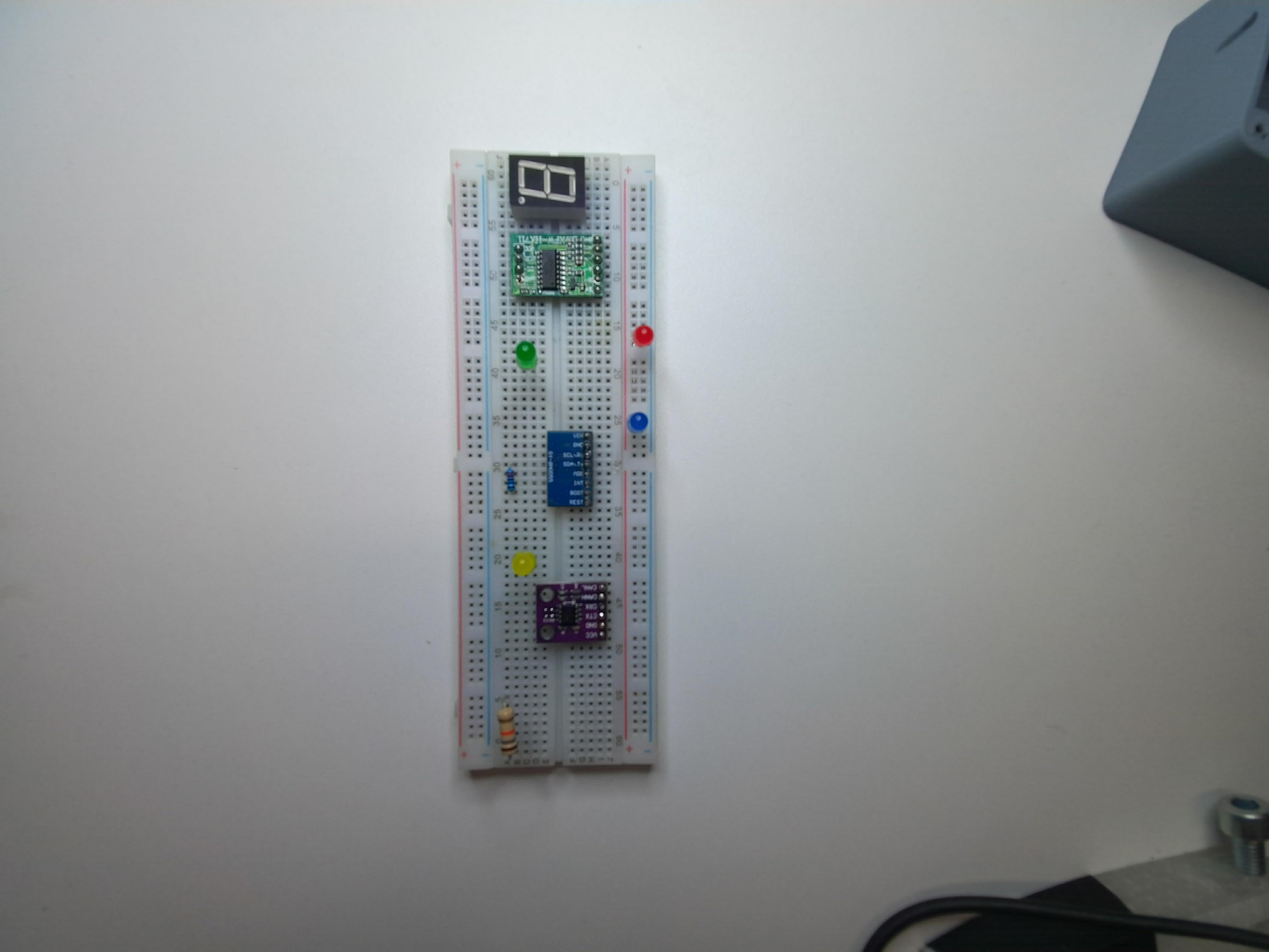base: (446, 147, 662, 786)
blue-board: (542, 426, 599, 515)
blue-led: (623, 405, 652, 438)
digit-board: (503, 152, 589, 224)
green-board: (505, 231, 607, 303)
green-led: (516, 333, 545, 373)
purple-board: (536, 583, 613, 649)
red-led: (629, 318, 657, 351)
resistor-big: (493, 707, 522, 761)
resistor-small: (503, 465, 520, 495)
yellow-led: (512, 551, 536, 577)
